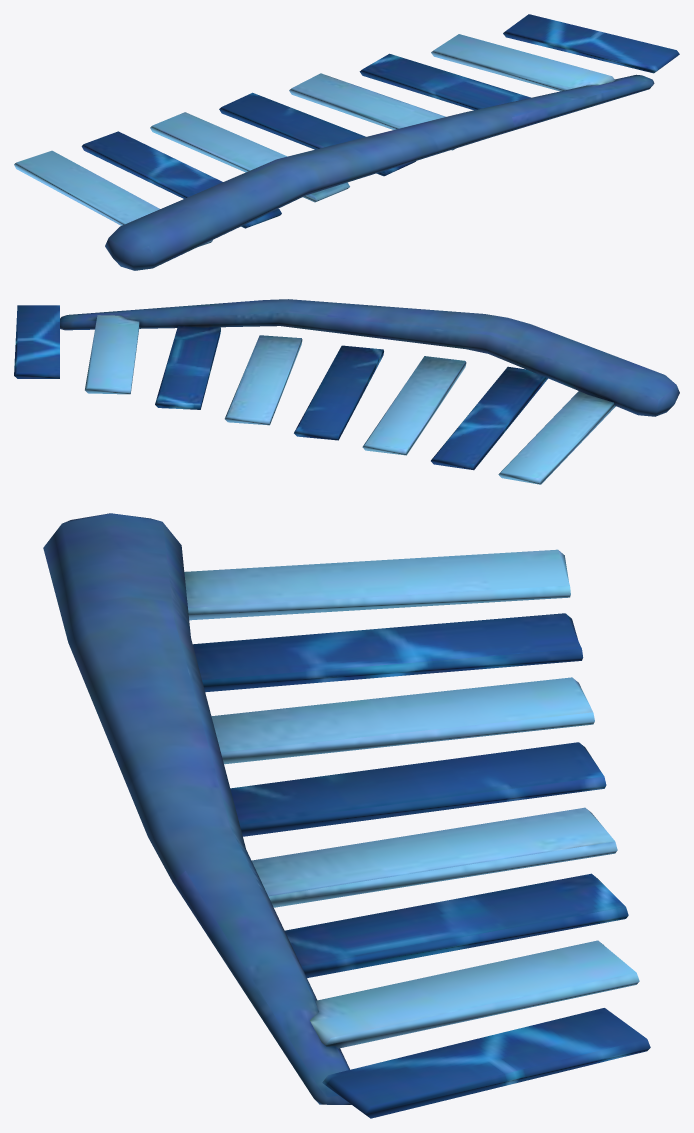
The model's file is u_harrierwingL_f_g.glb.
The picture shows the model from 3 angles, top to bottom: view 1: azimuth 30°, elevation 25°; view 2: azimuth 150°, elevation 25°; view 3: azimuth 270°, elevation 25°; orthographic projection. The views are drawn at different scales.
Visible parts, largest first — view 1: u_harrierwingL_f; view 2: u_harrierwingL_f; view 3: u_harrierwingL_f.
Part boxes in pixels (bbox=[...]): u_harrierwingL_f: bbox=[14, 14, 679, 270]; u_harrierwingL_f: bbox=[14, 299, 679, 484]; u_harrierwingL_f: bbox=[43, 513, 650, 1118].
Bounding box in the file's own units: 1.52 × 0.1476 × 0.6752.
Materials: 1 (1 with a texture image).
